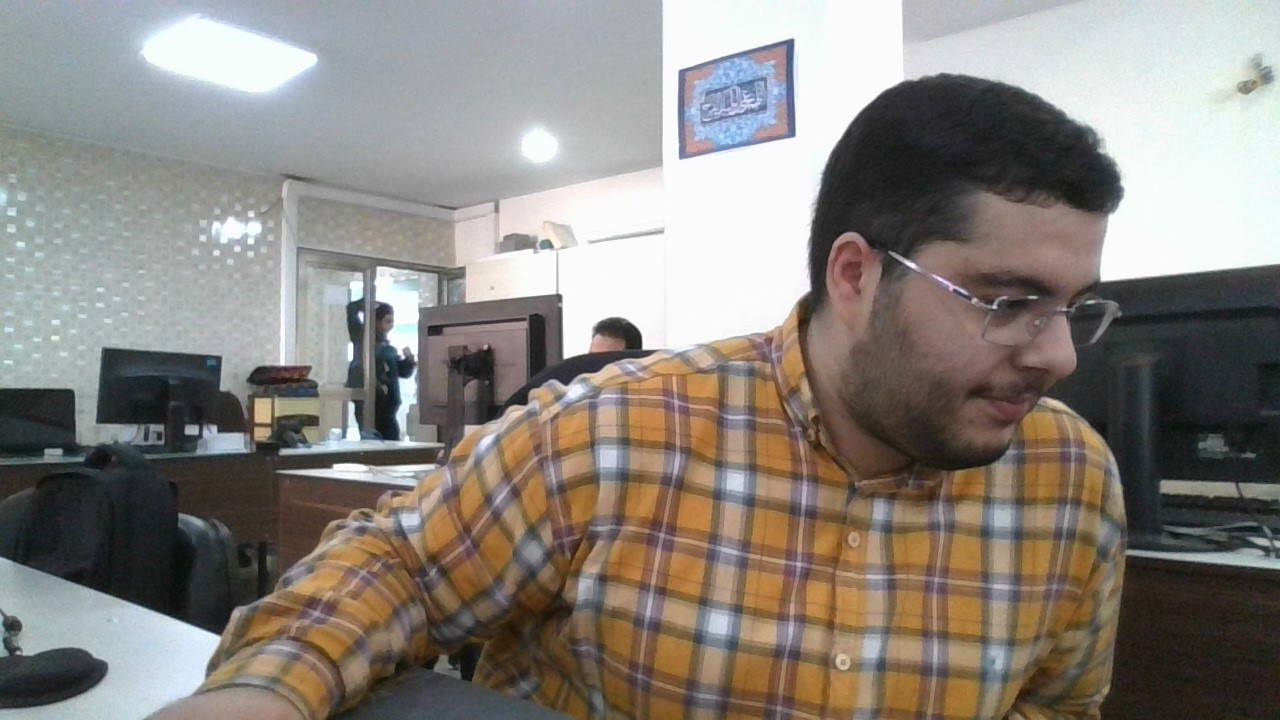NoMask: (817, 324, 1083, 476)
